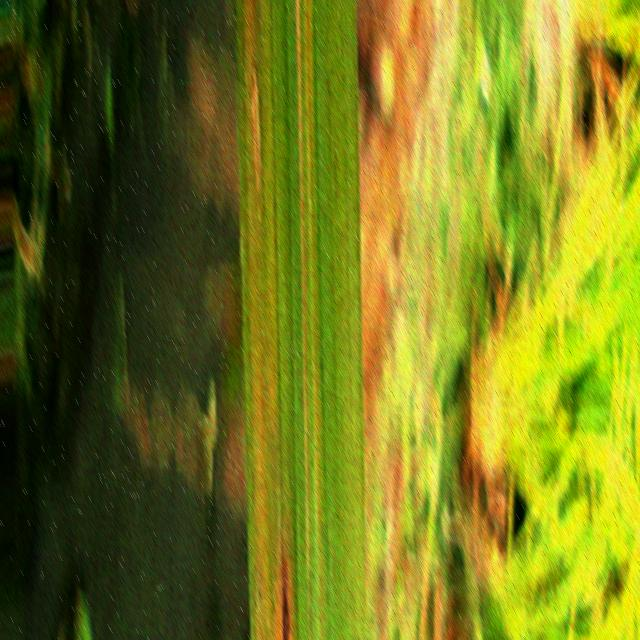LEAF BLAST: (282, 586, 289, 640)
